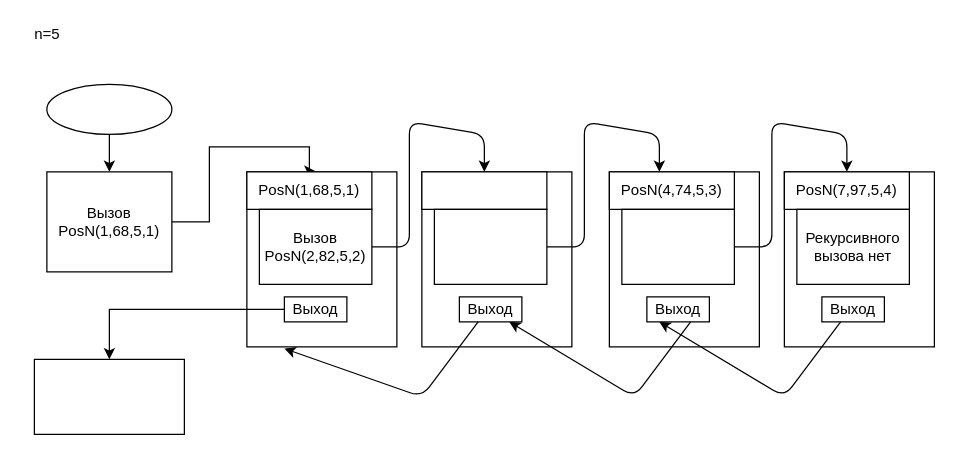
The diagram is 956 pixels wide and 456 high, and some of its shapes have lost their labels. The shapes that lost their labels are listed below. From the top down, each one's box as (x1, y1, x2, y2) in pixels, then its label:
(46, 83, 172, 134): Начало
(421, 171, 547, 209): PosN(2,82,5,2)
(433, 208, 547, 284): Вызов PosN(4,74,5,3)
(621, 208, 734, 284): Вызов PosN(7,97 ,5,4 )
(33, 358, 184, 434): КОНЕЦ
